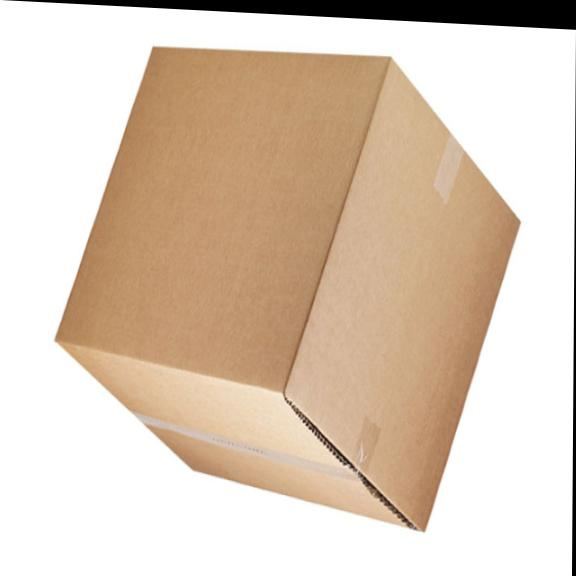Kertas: (57, 48, 518, 529)
